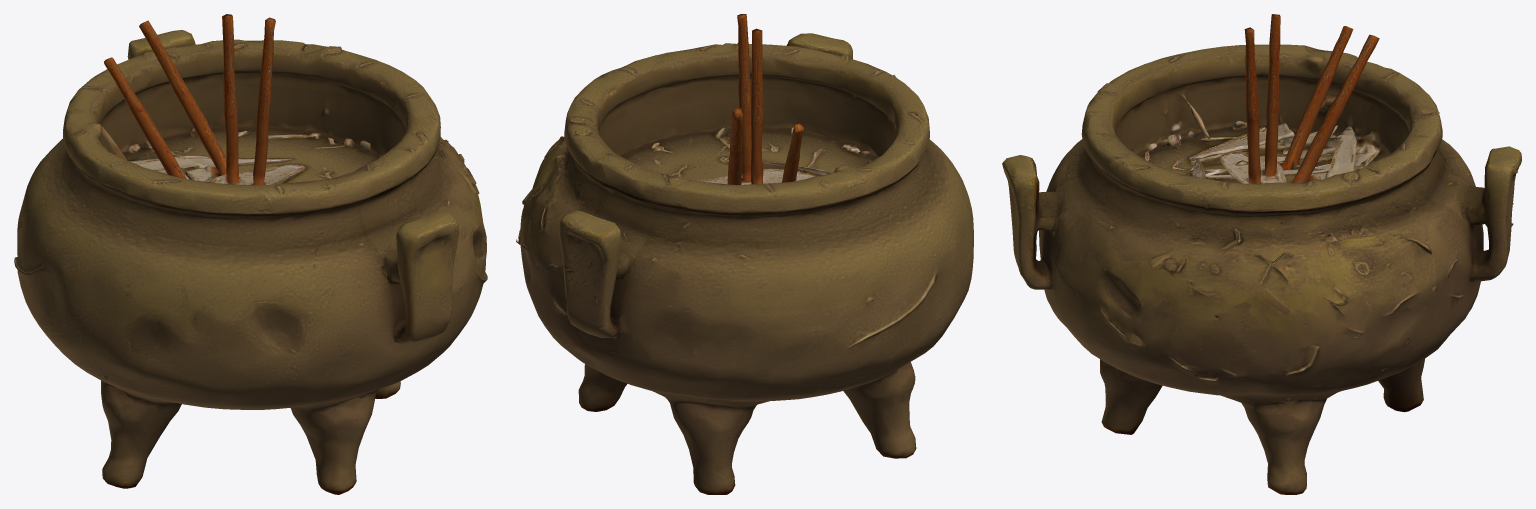
The picture shows the model from 3 angles, left to right: view 1: azimuth 30°, elevation 25°; view 2: azimuth 150°, elevation 25°; view 3: azimuth 270°, elevation 25°; orthographic projection. The views are drawn at different scales.
Parts seen in each view (by area): view 1: tripo_node_b7e8745a-b1c7-4c28-a4f7-9e1aaa144038; view 2: tripo_node_b7e8745a-b1c7-4c28-a4f7-9e1aaa144038; view 3: tripo_node_b7e8745a-b1c7-4c28-a4f7-9e1aaa144038.
Part boxes in pixels (x1=…): tripo_node_b7e8745a-b1c7-4c28-a4f7-9e1aaa144038: x1=14, y1=14, x2=487, y2=494; tripo_node_b7e8745a-b1c7-4c28-a4f7-9e1aaa144038: x1=516, y1=14, x2=973, y2=494; tripo_node_b7e8745a-b1c7-4c28-a4f7-9e1aaa144038: x1=1002, y1=14, x2=1521, y2=494.
Bounding box in the file's own units: 0.8615 × 0.8564 × 1.
Materials: 1 (1 with a texture image).
